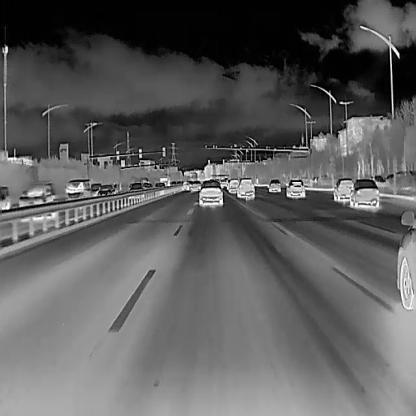car: (16, 180, 55, 212), (347, 176, 379, 208), (63, 176, 93, 208), (198, 180, 224, 207), (332, 176, 354, 202), (285, 177, 306, 198), (236, 177, 256, 198), (96, 183, 116, 198), (128, 181, 144, 194), (267, 177, 281, 191), (228, 177, 239, 193), (89, 181, 101, 195), (159, 175, 170, 189), (189, 179, 201, 191), (142, 182, 153, 193), (154, 181, 164, 192), (181, 180, 189, 190), (169, 179, 176, 188)
